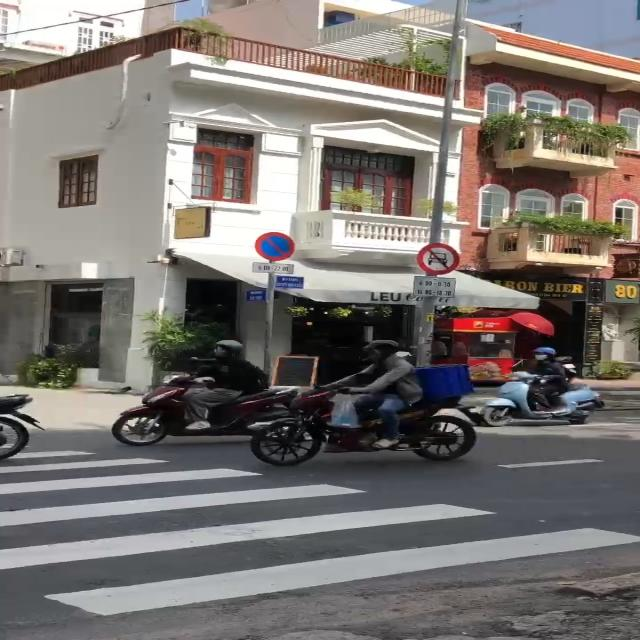Bien bao cam do xe: (252, 232, 300, 263)
Bien bao cam xe oto: (415, 242, 462, 276)
